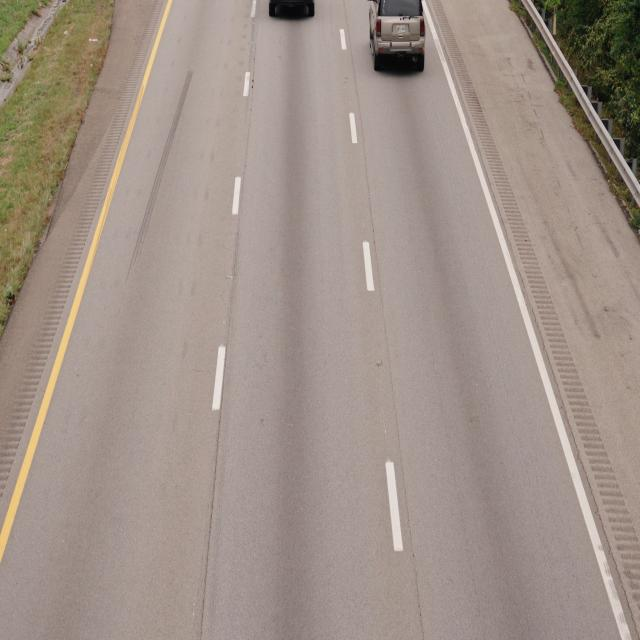Car: (370, 0, 427, 71)
